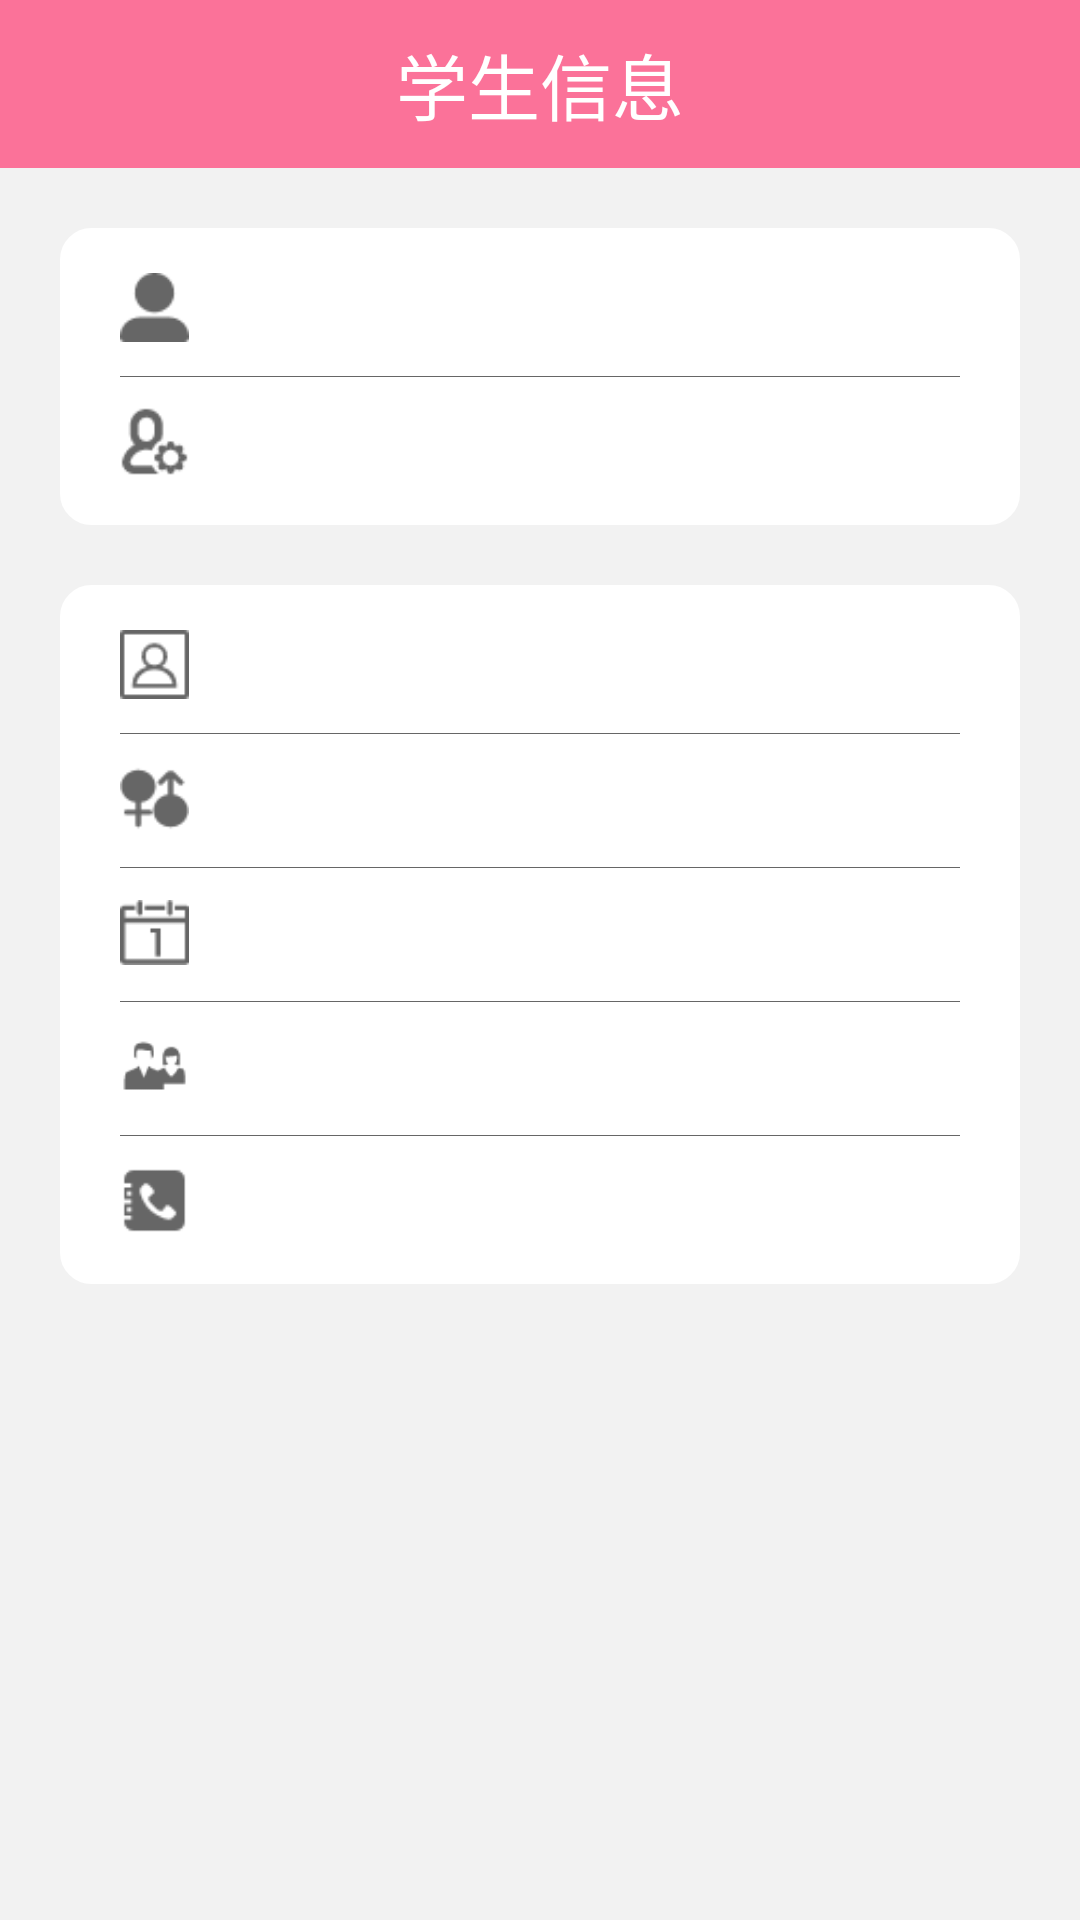

Named icons in this screenshot (1080w x 1920h) and their bounding boxes, (x1, y1, x2, y2):
showage: (120, 900, 189, 965)
showcontact: (124, 1170, 185, 1231)
showparents: (123, 1041, 186, 1090)
showsex: (120, 769, 189, 828)
